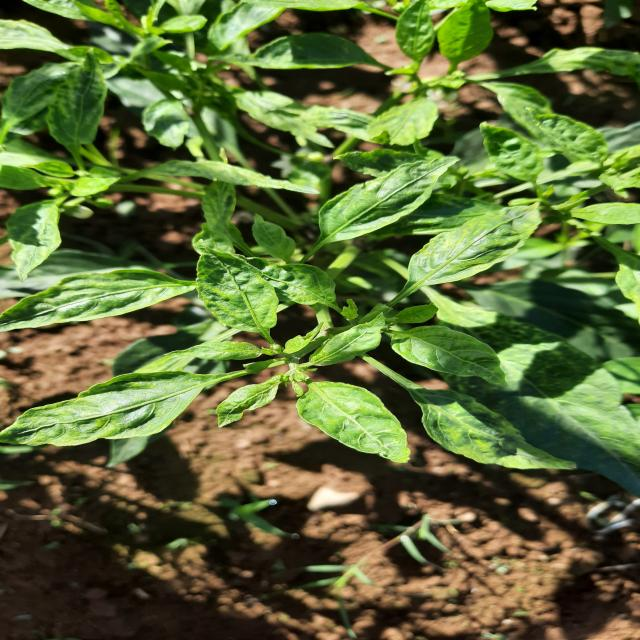thrips: (0, 366, 239, 453), (407, 379, 597, 482), (0, 265, 196, 353), (416, 192, 560, 299), (185, 240, 321, 333), (381, 320, 546, 394)
